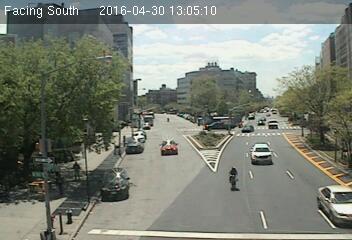neg: (223, 164, 243, 190), (110, 164, 125, 185), (201, 137, 211, 150), (182, 112, 187, 120)
pos: (67, 158, 85, 181), (167, 116, 170, 121)
